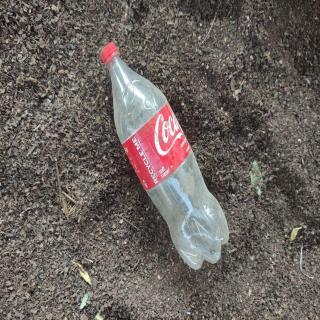Plastic-bottle: (99, 38, 234, 275)
